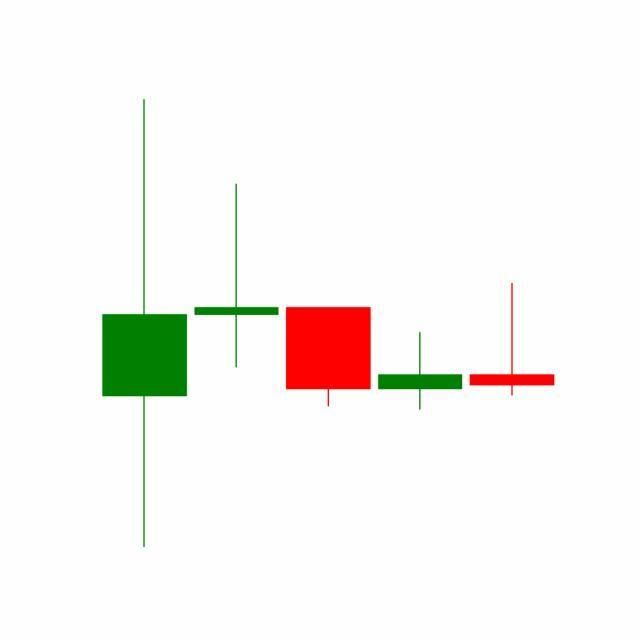Spinning Top: (374, 331, 468, 411)
